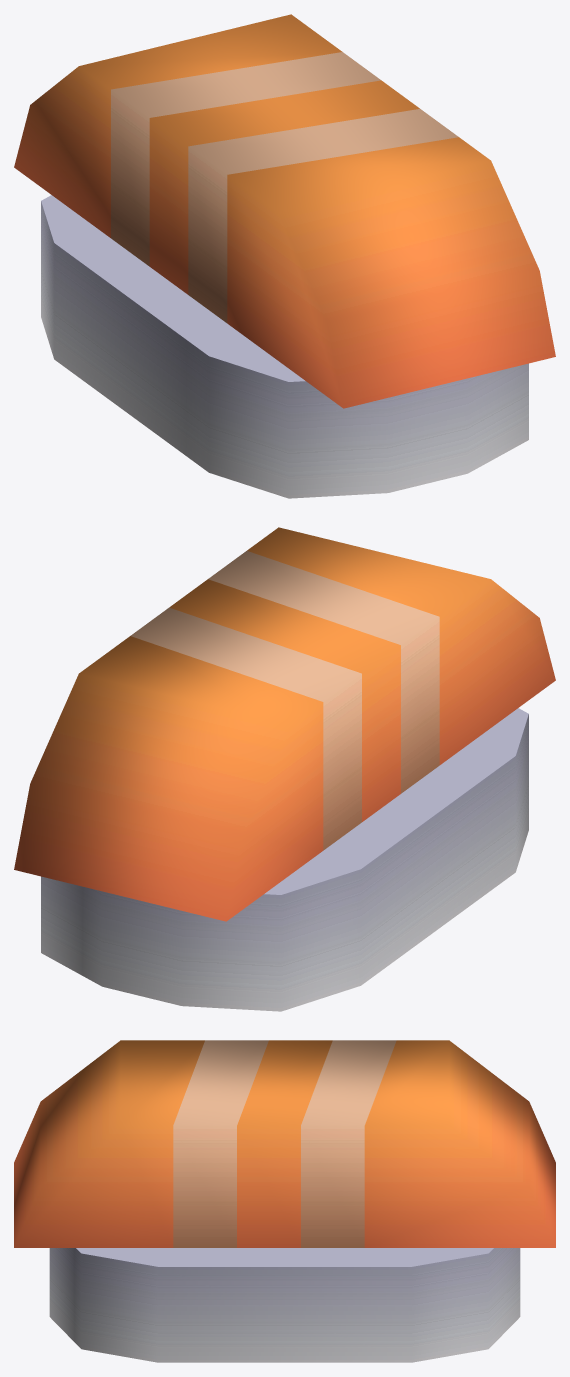
Rendered from sushi-salmon.glb.
3 views of the same model, one above another, from view 1: azimuth 30°, elevation 25°; view 2: azimuth 150°, elevation 25°; view 3: azimuth 270°, elevation 25° (orthographic). The views are drawn at different scales.
Visible parts, largest first — view 1: sushi-salmon; view 2: sushi-salmon; view 3: sushi-salmon.
Part boxes in pixels (box(x1,y1,x2,y2)): sushi-salmon: box(14, 14, 555, 498); sushi-salmon: box(14, 527, 555, 1011); sushi-salmon: box(14, 1040, 555, 1362).
Size of the model in its own units: 0.1079 by 0.0892 by 0.2008.
1 material, 1 textured.
